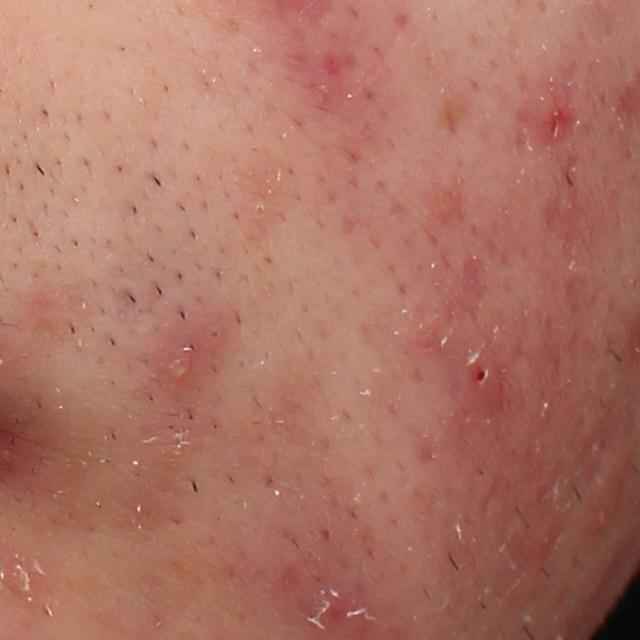papule: (459, 337, 504, 401), (539, 86, 577, 146)
pustule: (157, 332, 207, 387)
